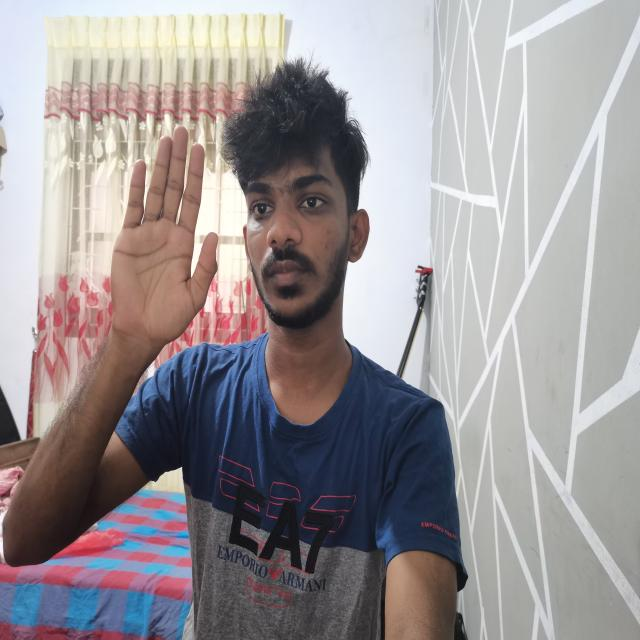Hello: (98, 120, 226, 360)
